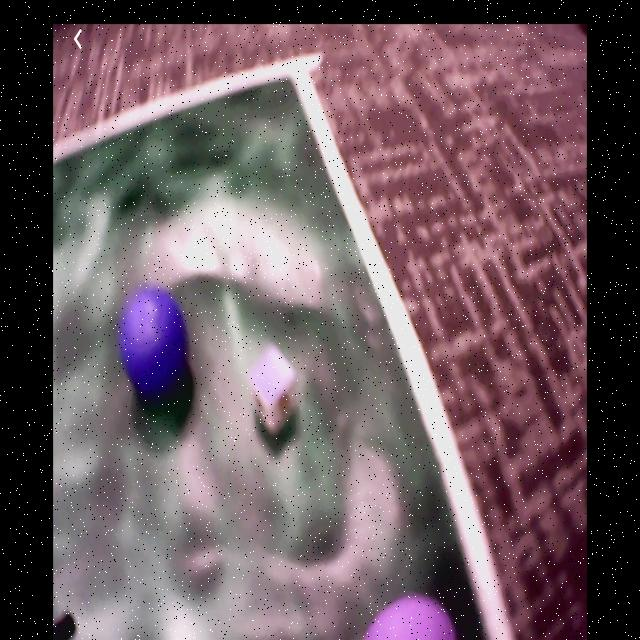ball: (121, 288, 189, 395), (364, 597, 456, 640)
